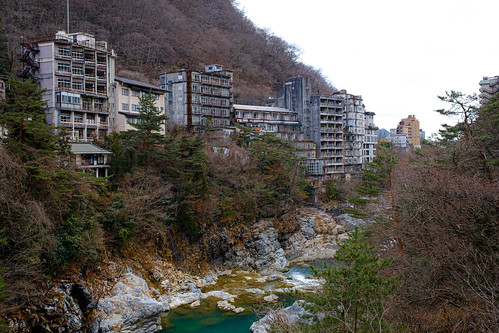building: (42, 38, 121, 170), (166, 62, 236, 132), (114, 75, 168, 142), (228, 101, 302, 142), (311, 95, 341, 173), (336, 88, 366, 166), (395, 113, 422, 148), (363, 110, 379, 166)
river: (127, 243, 373, 333)
sky: (291, 1, 498, 95)
vegetation: (1, 126, 301, 260), (357, 100, 499, 333)
